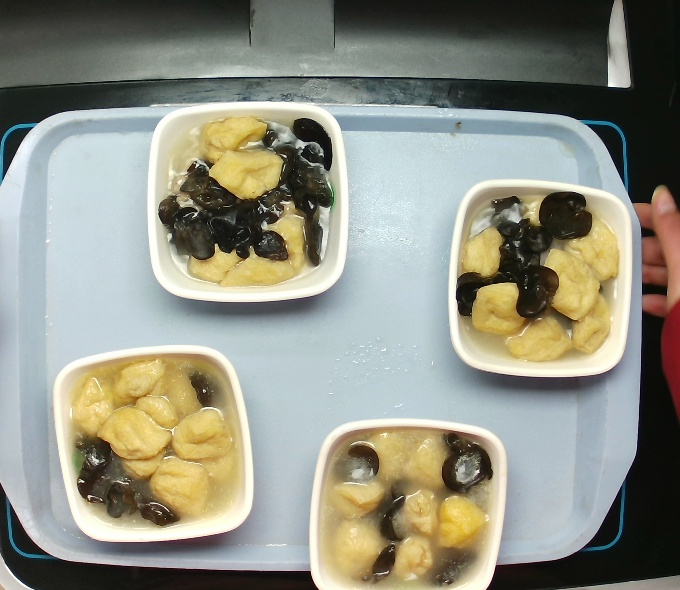wcq-MuErYouPaoTang: (48, 335, 253, 546), (456, 178, 623, 373), (164, 110, 335, 293), (326, 422, 487, 589)
